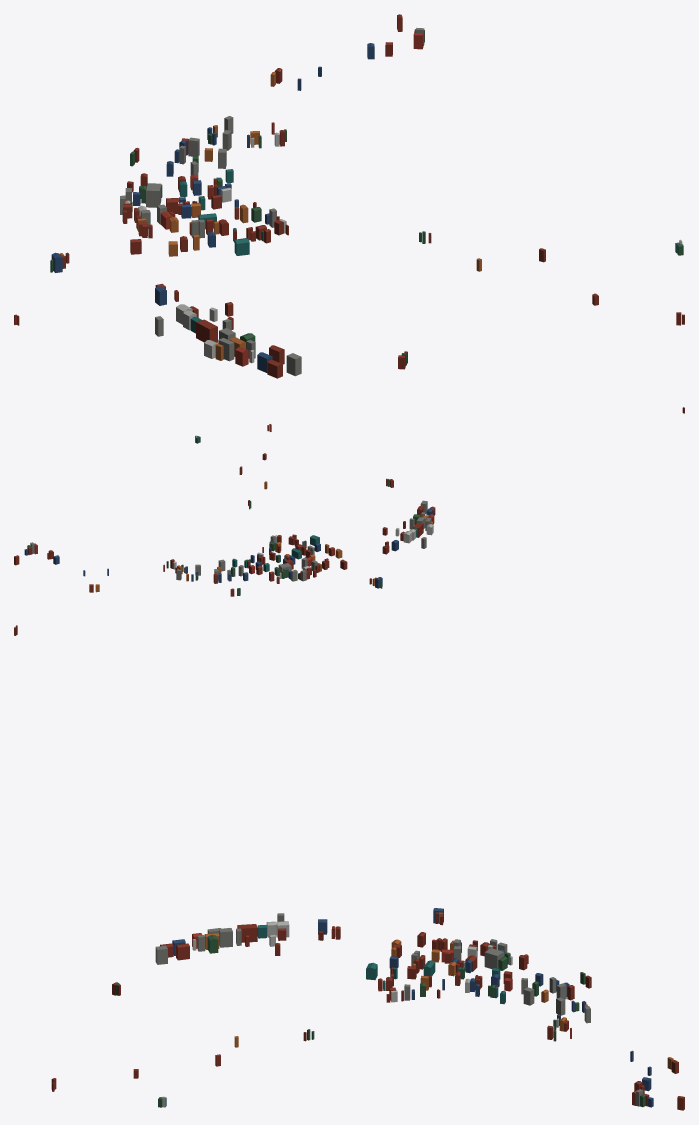
Rendered from near-15-27372-14877.85fabe5d.glb.
The picture shows the model from 3 angles, top to bottom: view 1: azimuth 30°, elevation 25°; view 2: azimuth 150°, elevation 25°; view 3: azimuth 270°, elevation 25°; orthographic projection. The views are drawn at different scales.
Size of the model in its own units: 1111 by 287 by 957.
